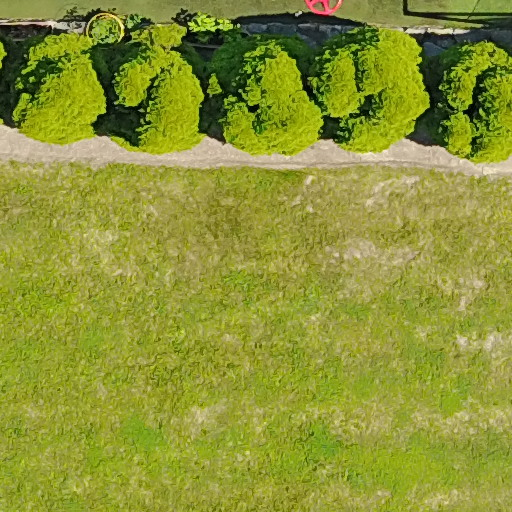flower pot: (84, 8, 132, 50)
